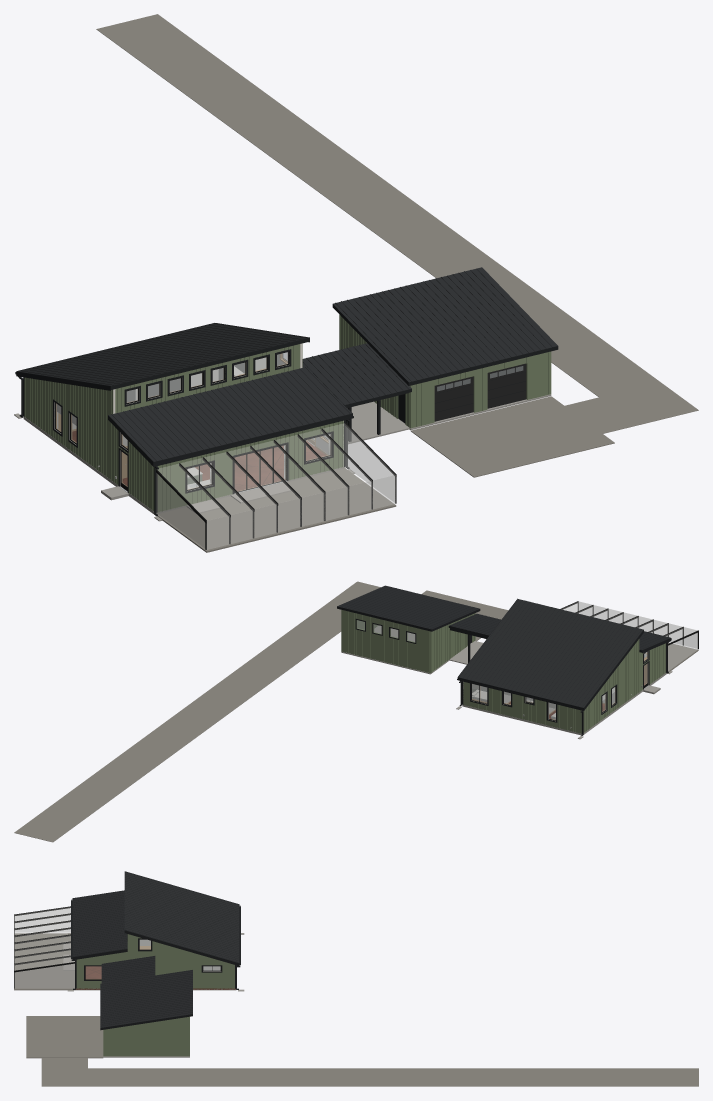
Rendered from house.glb.
3 views of the same model, one above another, from view 1: azimuth 30°, elevation 25°; view 2: azimuth 150°, elevation 25°; view 3: azimuth 270°, elevation 25° (orthographic). The views are drawn at different scales.
Parts seen in each view (by area): view 1: Gravel drive 1, Garage roof, Roof south (low), Greenhouse roof glazing, Driveway, Greenhouse floor, Roof north (high), Wall W siding, Greenhouse south glazing, Wall S siding, Battens W, Porch roof (+14 smaller); view 2: Gravel drive 1, Roof north (high), Garage roof, Garage wall N, Wall W siding, Wall N siding, Battens W, Garage battens N, Greenhouse roof glazing, Greenhouse south glazing, Garage wall W, Battens N (+6 smaller); view 3: Gravel drive 1, Roof north (high), Garage roof, Driveway, Wall E siding, Roof south (low), Greenhouse roof glazing, Garage wall E, Greenhouse floor, Gravel drive 0, Battens E, Greenhouse east glazing (+5 smaller).
Boxes of the visible parts, x1,y1,x2,y2 form: Gravel drive 1: [96, 14, 698, 419]; Garage roof: [332, 267, 558, 385]; Roof south (low): [109, 367, 351, 461]; Greenhouse roof glazing: [158, 423, 394, 520]; Driveway: [411, 396, 614, 477]; Greenhouse floor: [157, 468, 396, 552]; Roof north (high): [17, 323, 309, 389]; Wall W siding: [25, 377, 153, 510]; Greenhouse south glazing: [207, 475, 395, 549]; Wall S siding: [158, 421, 343, 511]; Battens W: [24, 377, 154, 511]; Porch roof: [302, 343, 411, 407]; Gravel drive 1: [14, 582, 379, 842]; Roof north (high): [458, 599, 643, 707]; Garage roof: [337, 585, 480, 631]; Garage wall N: [341, 610, 430, 672]; Wall W siding: [583, 639, 665, 732]; Wall N siding: [463, 682, 580, 733]; Battens W: [584, 640, 665, 731]; Garage battens N: [342, 610, 429, 672]; Greenhouse roof glazing: [562, 602, 696, 642]; Greenhouse south glazing: [579, 602, 697, 647]; Garage wall W: [429, 613, 474, 672]; Battens N: [463, 682, 581, 733]; Gravel drive 1: [42, 1068, 698, 1086]; Roof north (high): [124, 871, 239, 962]; Garage roof: [100, 970, 192, 1030]; Driveway: [26, 1016, 103, 1058]; Wall E siding: [76, 934, 234, 988]; Roof south (low): [72, 890, 127, 956]; Greenhouse roof glazing: [14, 907, 74, 970]; Garage wall E: [103, 1016, 189, 1056]; Greenhouse floor: [14, 933, 75, 990]; Gravel drive 0: [41, 1058, 87, 1086]; Battens E: [77, 934, 234, 988]; Greenhouse east glazing: [15, 964, 74, 988].
Size of what is drawn, in the model's own units: 36.9 by 6.73 by 67.67.
32 materials, 1 textured.
